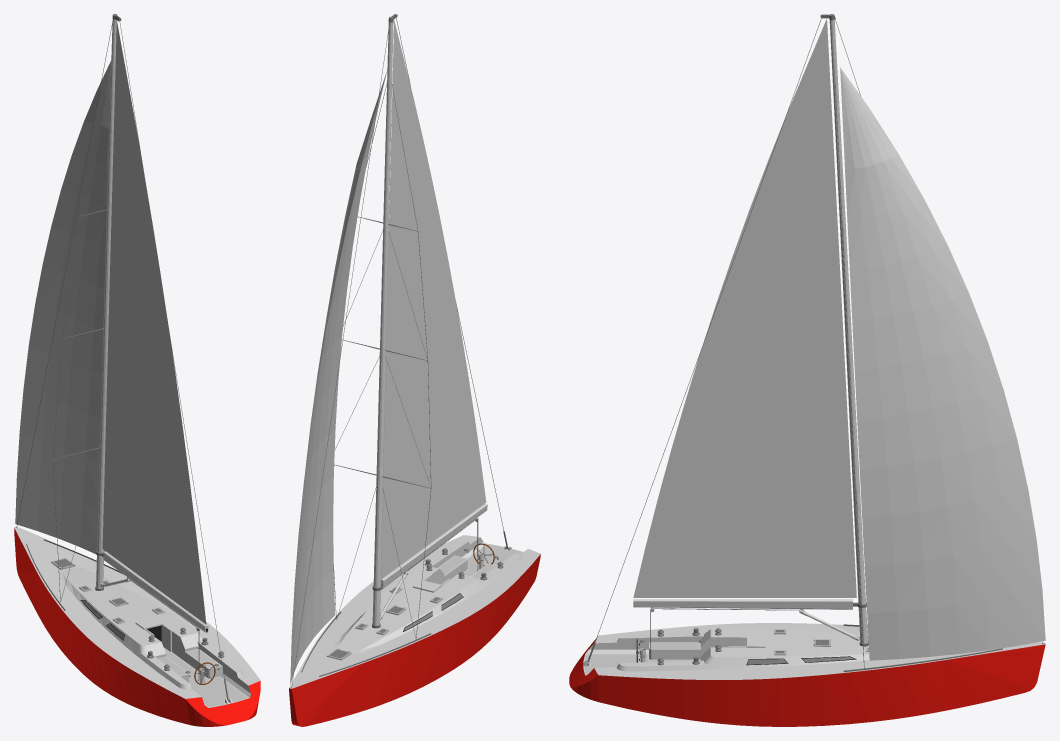
The model's file is lithops_0.dae.
3 renders of one model, left to right at view 1: azimuth 30°, elevation 25°; view 2: azimuth 150°, elevation 25°; view 3: azimuth 270°, elevation 25°, orthographic. The views are drawn at different scales.
Visible parts, largest first — view 1: VIFS20, VIFS08, VIFS02, VIFS031, VIFS12, VIFS07, VIFS09, VIFS37, VIFS11; view 2: VIFS20, VIFS08, VIFS02, VIFS031, VIFS12, VIFS09, VIFS11, VIFS07, VIFS10; view 3: VIFS08, VIFS20, VIFS031, VIFS02, VIFS12, VIFS10, VIFS37.
Boxes of the visible parts, left/top/right/bottom form: VIFS20: left=102, top=20, right=206, bottom=624; VIFS08: left=15, top=60, right=111, bottom=553; VIFS02: left=14, top=526, right=260, bottom=707; VIFS031: left=14, top=528, right=260, bottom=726; VIFS12: left=96, top=19, right=208, bottom=632; VIFS07: left=164, top=649, right=247, bottom=707; VIFS09: left=53, top=76, right=111, bottom=601; VIFS37: left=119, top=20, right=228, bottom=699; VIFS11: left=16, top=24, right=112, bottom=527; VIFS20: left=381, top=20, right=486, bottom=578; VIFS08: left=290, top=71, right=386, bottom=684; VIFS02: left=289, top=535, right=540, bottom=688; VIFS031: left=289, top=554, right=540, bottom=726; VIFS12: left=372, top=22, right=487, bottom=625; VIFS09: left=382, top=82, right=431, bottom=639; VIFS11: left=291, top=18, right=390, bottom=687; VIFS07: left=464, top=544, right=522, bottom=575; VIFS10: left=333, top=84, right=386, bottom=619; VIFS08: left=840, top=67, right=1045, bottom=660; VIFS20: left=633, top=19, right=856, bottom=597; VIFS031: left=569, top=638, right=1045, bottom=726; VIFS02: left=583, top=623, right=1045, bottom=679; VIFS12: left=633, top=20, right=867, bottom=643; VIFS10: left=835, top=82, right=864, bottom=668; VIFS37: left=587, top=18, right=821, bottom=662.
Bounding box in the file's own units: 4263 × 15240 × 24332.
